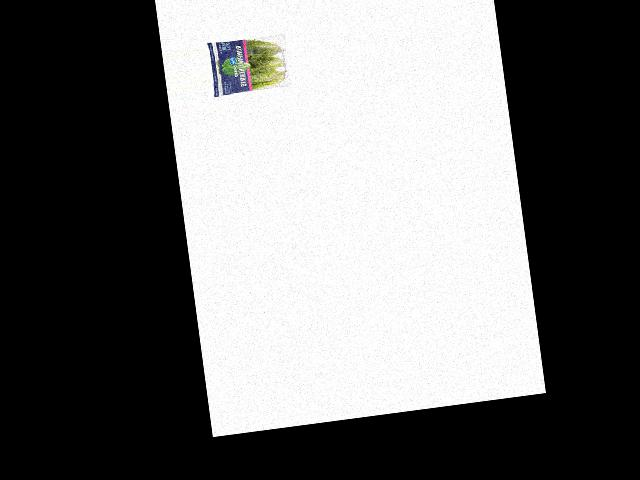lettuce: (208, 30, 289, 99)
